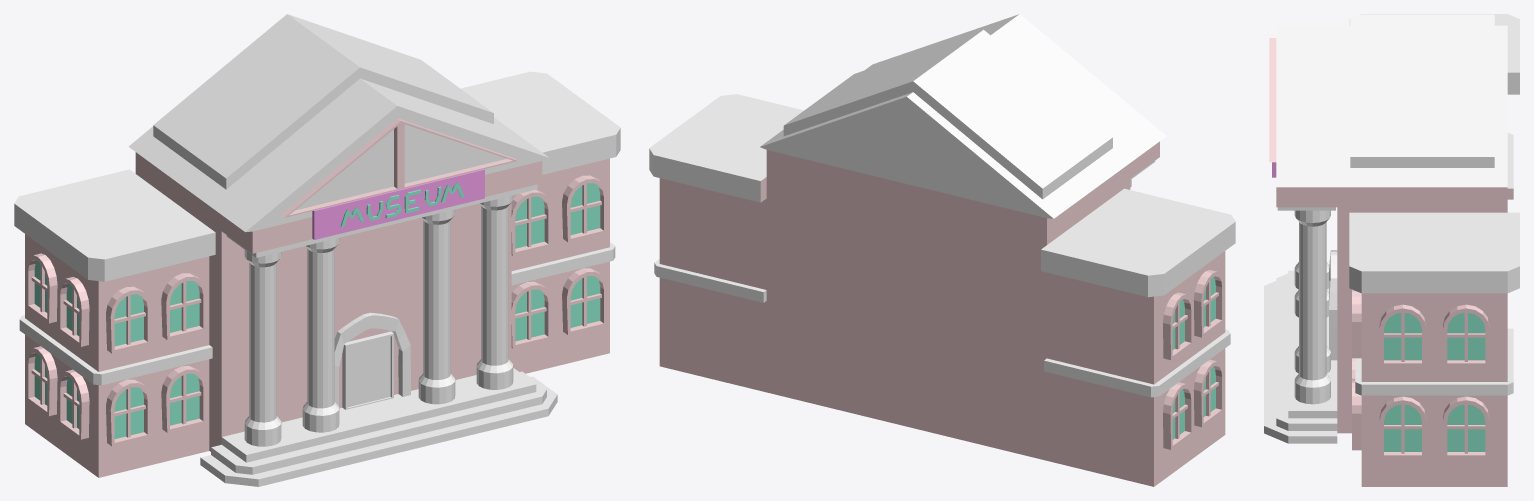
The model's file is Museum.fbx.
3 renders of one model, left to right at view 1: azimuth 30°, elevation 25°; view 2: azimuth 150°, elevation 25°; view 3: azimuth 270°, elevation 25°, orthographic. The views are drawn at different scales.
Parts seen in each view (by area): view 1: Cube; view 2: Cube; view 3: Cube.
Boxes of the visible parts, left/top/right/bottom form: Cube: left=14, top=14, right=620, bottom=486; Cube: left=649, top=14, right=1235, bottom=486; Cube: left=1264, top=14, right=1519, bottom=486.
Bounding box in the file's own units: 5000 × 3160 × 2100.
